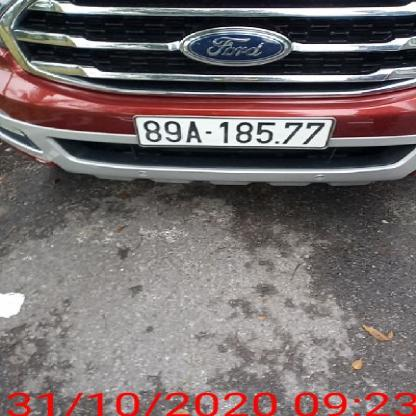biensoxe: (133, 109, 335, 156)
